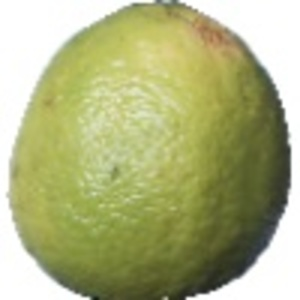limão: (6, 1, 291, 300)
